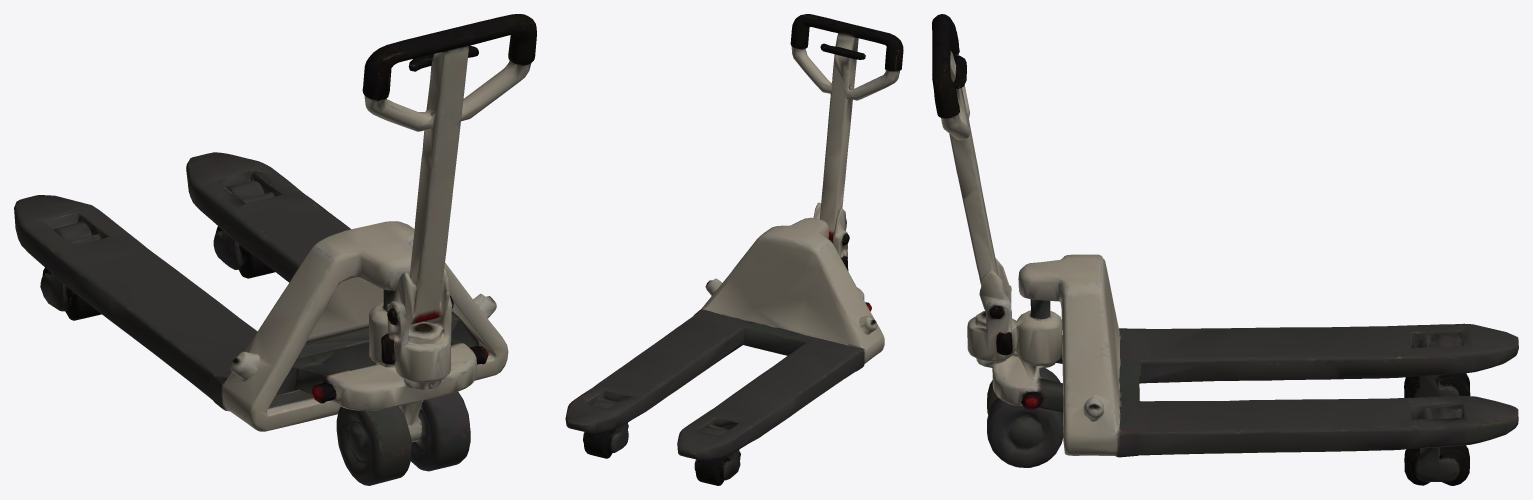
File: pallet_jack.glb
The picture shows the model from 3 angles, left to right: view 1: azimuth 30°, elevation 25°; view 2: azimuth 150°, elevation 25°; view 3: azimuth 270°, elevation 25°; orthographic projection. The views are drawn at different scales.
Parts seen in each view (by area): view 1: geometry_0; view 2: geometry_0; view 3: geometry_0.
Part boxes in pixels (x1,y1,x2,y2): geometry_0: (14,14,536,485); geometry_0: (565,14,903,485); geometry_0: (932,14,1518,485).
Size of the model in its own units: 0.4418 by 0.7678 by 0.9983.
Materials: 1 (1 with a texture image).
